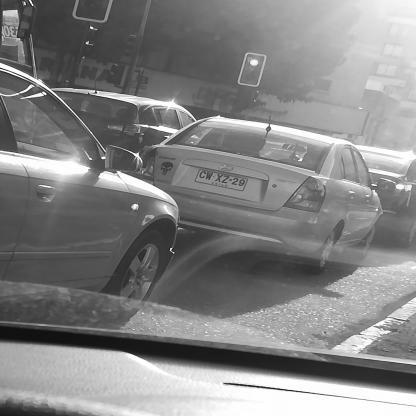Patente: (194, 168, 250, 194)
